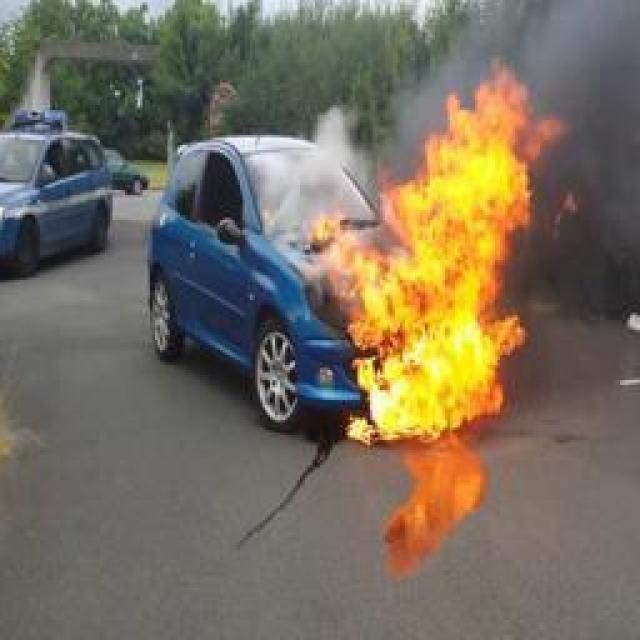Fire: (318, 56, 566, 444)
